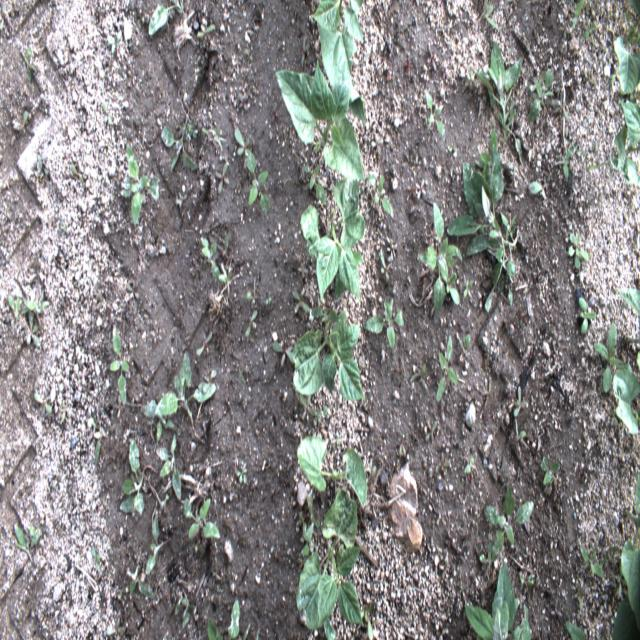crop: (275, 59, 364, 182), (295, 494, 365, 636), (299, 180, 369, 302), (292, 308, 365, 407), (312, 0, 367, 127), (296, 434, 369, 512)
weed: (449, 134, 520, 314), (582, 2, 638, 188), (470, 36, 526, 162), (142, 344, 215, 440), (461, 555, 536, 638), (419, 194, 465, 318), (608, 466, 638, 638), (482, 489, 536, 572), (234, 120, 272, 220), (119, 145, 160, 228), (158, 97, 195, 178), (116, 438, 150, 518), (146, 2, 194, 55), (106, 321, 134, 410), (201, 232, 238, 294), (362, 297, 404, 351), (205, 599, 262, 638), (144, 500, 172, 574), (184, 491, 220, 548), (152, 434, 184, 498), (596, 325, 624, 396), (612, 362, 638, 438), (433, 330, 458, 406), (577, 541, 613, 593), (365, 168, 396, 225), (529, 67, 556, 129), (297, 154, 329, 206), (124, 560, 158, 608), (568, 4, 604, 48), (10, 524, 42, 571), (552, 139, 579, 190), (559, 230, 588, 277), (424, 82, 446, 142), (573, 292, 598, 343), (297, 502, 316, 564), (569, 567, 596, 606), (170, 591, 198, 628), (406, 357, 429, 396), (379, 235, 396, 285), (32, 388, 59, 419), (290, 283, 312, 320), (510, 419, 530, 458), (540, 454, 562, 489), (457, 329, 476, 367), (432, 448, 453, 482), (4, 284, 20, 328), (270, 340, 292, 371), (620, 283, 637, 323), (562, 613, 590, 637), (558, 80, 572, 126), (196, 12, 216, 44), (21, 50, 37, 90), (201, 123, 225, 149), (235, 454, 253, 488), (104, 23, 124, 53), (365, 600, 381, 637), (195, 328, 213, 360), (514, 564, 537, 589), (86, 544, 105, 574), (214, 158, 230, 193), (18, 295, 43, 317), (462, 272, 476, 310), (406, 177, 429, 200), (366, 132, 388, 156), (424, 39, 440, 71), (481, 373, 494, 412), (307, 401, 330, 423), (424, 416, 440, 447), (510, 381, 526, 412), (35, 151, 50, 183), (18, 101, 34, 131), (292, 36, 311, 61), (243, 311, 260, 338), (242, 283, 260, 308), (102, 95, 115, 128), (27, 323, 42, 350), (92, 431, 103, 466), (463, 453, 477, 479), (72, 159, 85, 186), (0, 5, 12, 32), (268, 101, 280, 124), (109, 619, 126, 634), (298, 261, 310, 279), (265, 294, 275, 313), (608, 68, 616, 90)
